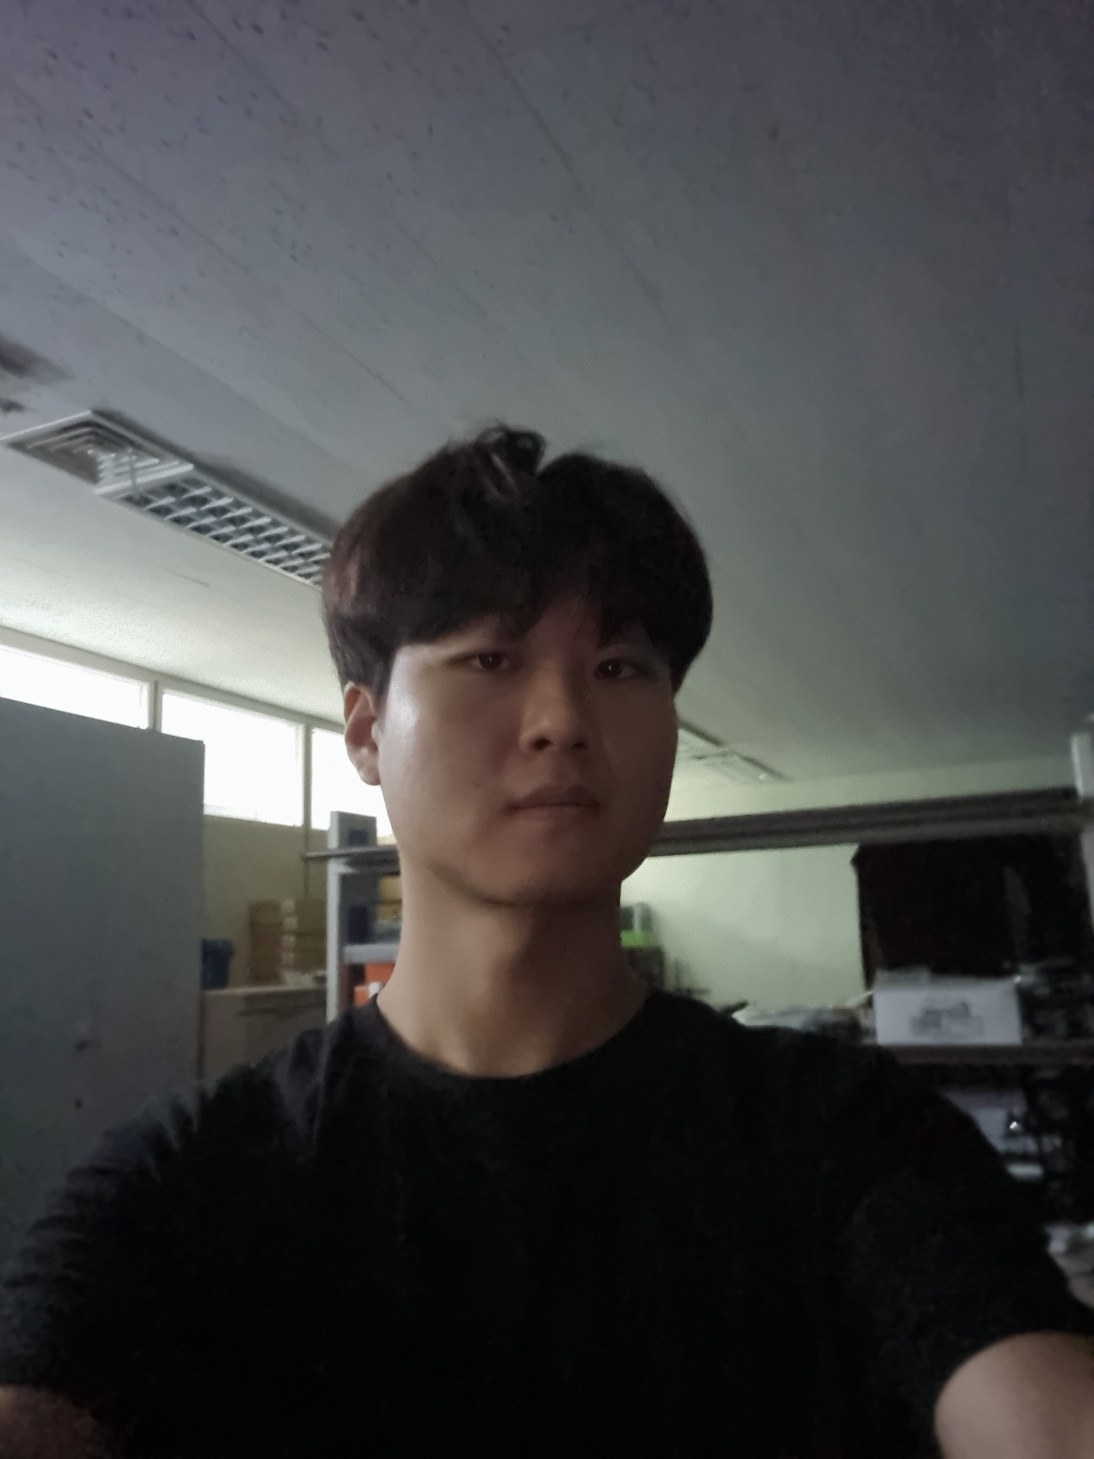Non-Helmet: (237, 372, 800, 950)
